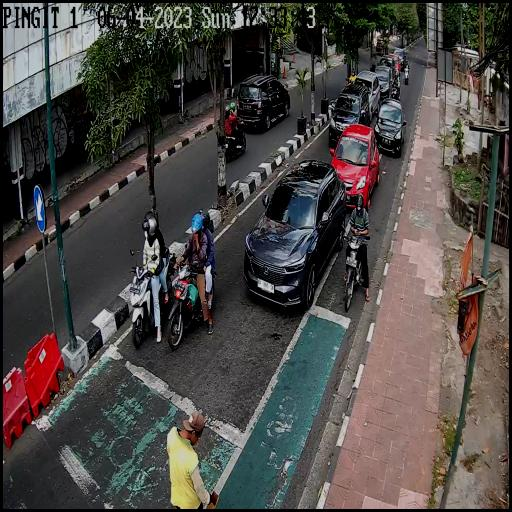mobil: (244, 162, 346, 303), (333, 124, 379, 210), (328, 83, 372, 150), (236, 74, 290, 126), (376, 94, 406, 158), (353, 71, 381, 116), (375, 66, 391, 98), (379, 55, 396, 83), (394, 48, 408, 70), (389, 52, 400, 75)
motor: (129, 246, 177, 346), (169, 262, 215, 348), (342, 228, 368, 310), (222, 122, 246, 158), (392, 81, 402, 102), (404, 68, 409, 85)
